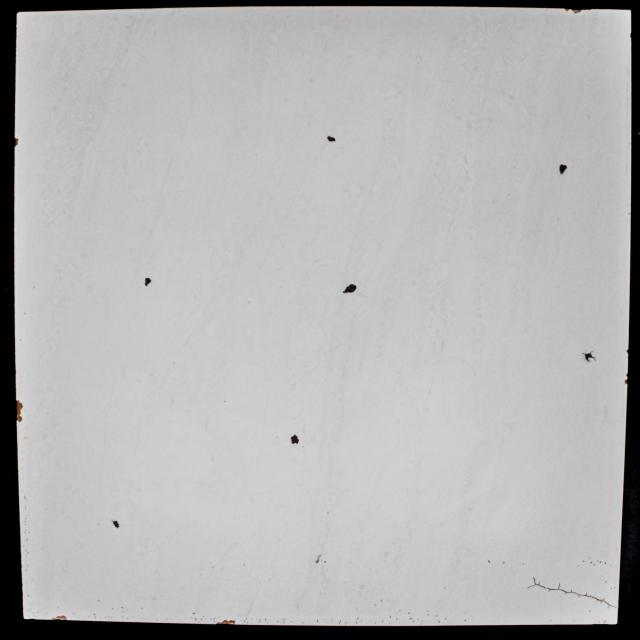edge-chipping: (16, 399, 23, 423), (216, 619, 236, 625), (52, 616, 68, 622), (572, 8, 582, 14), (14, 137, 19, 147), (624, 373, 628, 385), (564, 7, 570, 12), (626, 348, 629, 354)
hole: (340, 282, 359, 296), (582, 351, 596, 362), (290, 434, 300, 444), (560, 163, 568, 174), (144, 277, 152, 287), (112, 520, 120, 529), (315, 554, 322, 564), (327, 136, 336, 142), (487, 559, 491, 563), (502, 561, 506, 564), (522, 563, 525, 565)
line: (528, 577, 561, 591), (588, 595, 612, 607), (563, 590, 585, 597)
